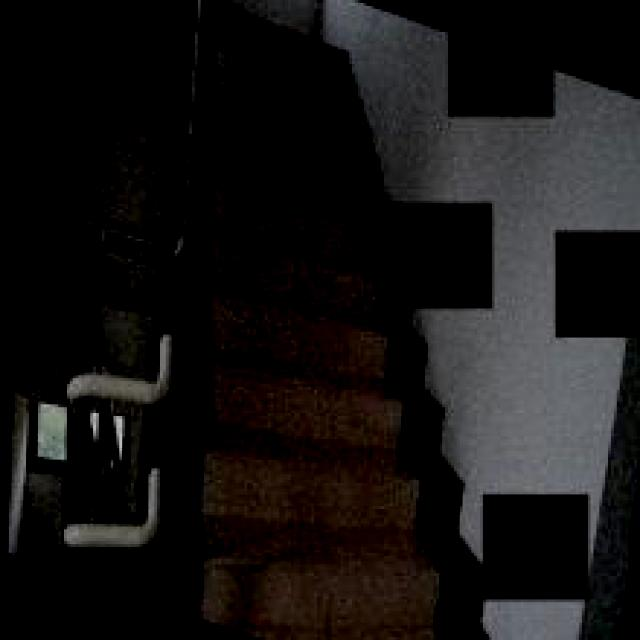upstair: (179, 333, 443, 627)
